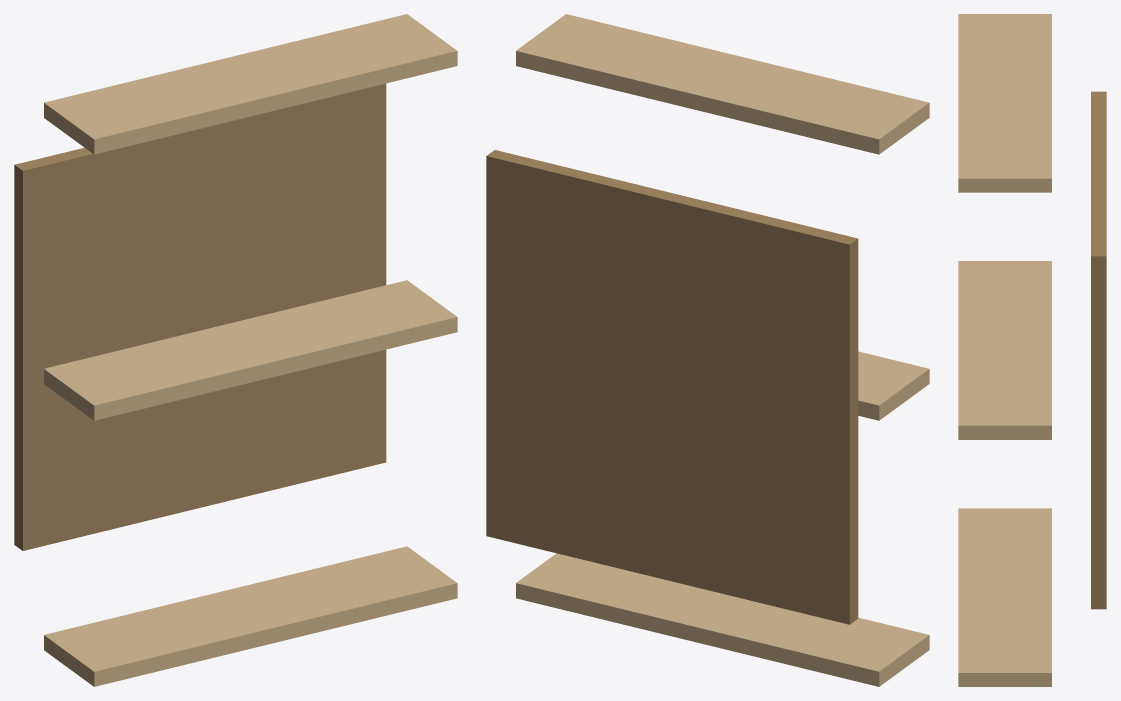
Rendered from Shelf_1.glb.
The picture shows the model from 3 angles, left to right: view 1: azimuth 30°, elevation 25°; view 2: azimuth 150°, elevation 25°; view 3: azimuth 270°, elevation 25°; orthographic projection. The views are drawn at different scales.
Parts seen in each view (by area): view 1: Shelf_1; view 2: Shelf_1; view 3: Shelf_1.
Part boxes in pixels (bbox=[...]): Shelf_1: bbox=[14, 14, 457, 686]; Shelf_1: bbox=[486, 14, 929, 686]; Shelf_1: bbox=[958, 14, 1106, 686].
Bounding box in the file's own units: 0.5 × 0.72 × 0.19.
